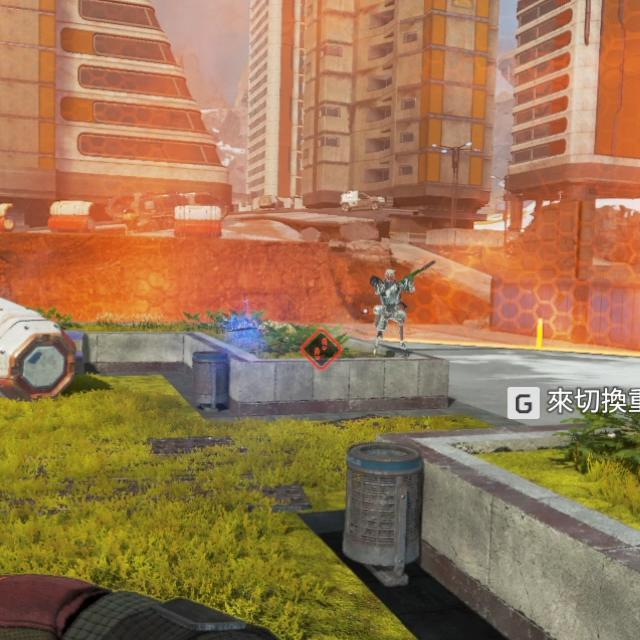avatar: (370, 266, 411, 357)
